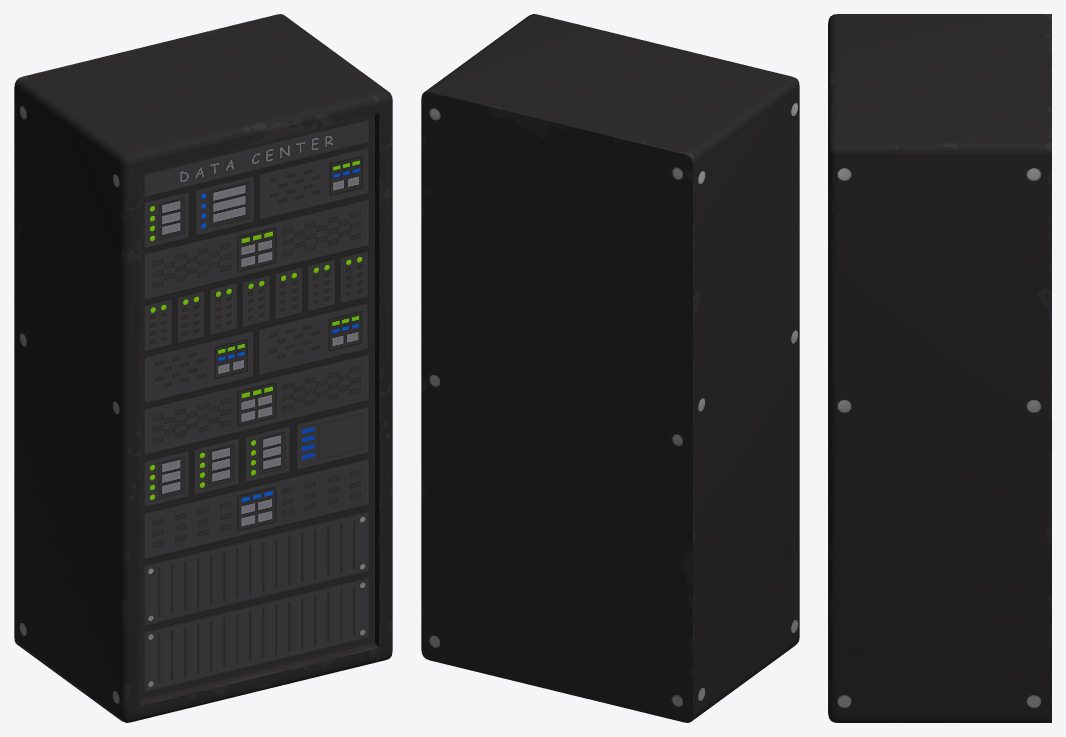
Rendered from OfficeServer01.FBX.
3 views of the same model, side by side, from view 1: azimuth 30°, elevation 25°; view 2: azimuth 150°, elevation 25°; view 3: azimuth 270°, elevation 25° (orthographic).
Visible parts, largest first — view 1: OfficeServer01; view 2: OfficeServer01; view 3: OfficeServer01.
Part boxes in pixels (bbox=[...]): OfficeServer01: bbox=[14, 14, 392, 722]; OfficeServer01: bbox=[421, 14, 799, 722]; OfficeServer01: bbox=[828, 14, 1051, 722].
Size of what is drawn, in the model's own units: 1 by 2 by 0.7.
